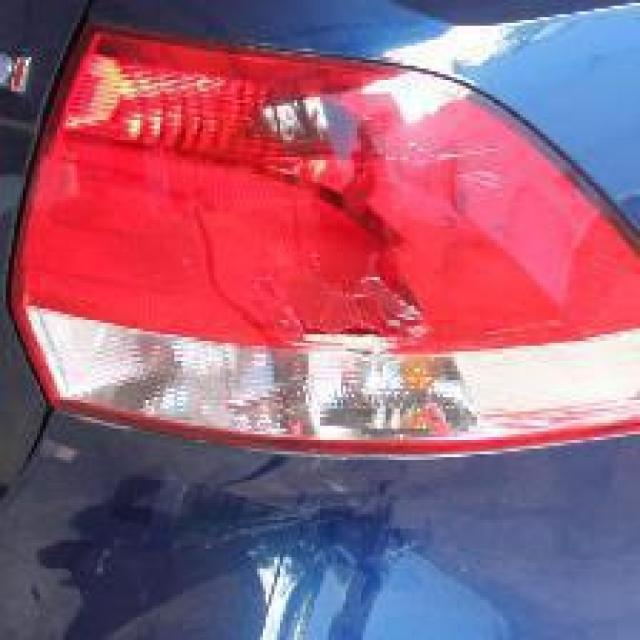damaged: (280, 257, 443, 354), (382, 137, 514, 197)
